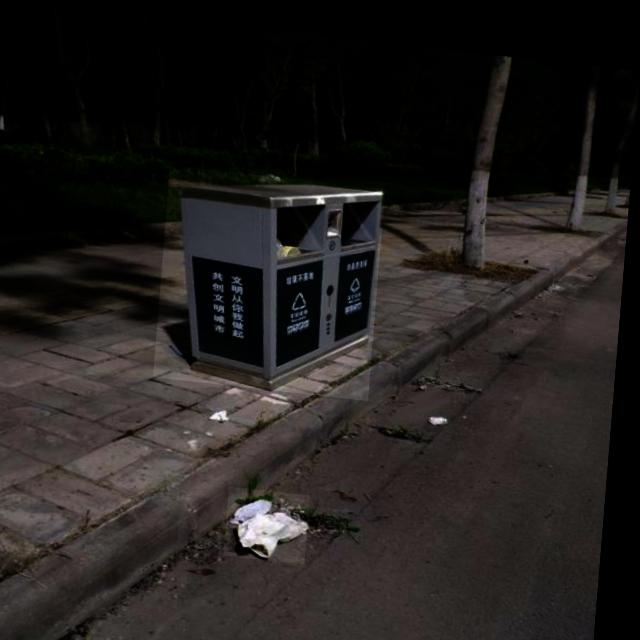garbage: (232, 480, 318, 556)
garbage_bin: (159, 161, 388, 392)
